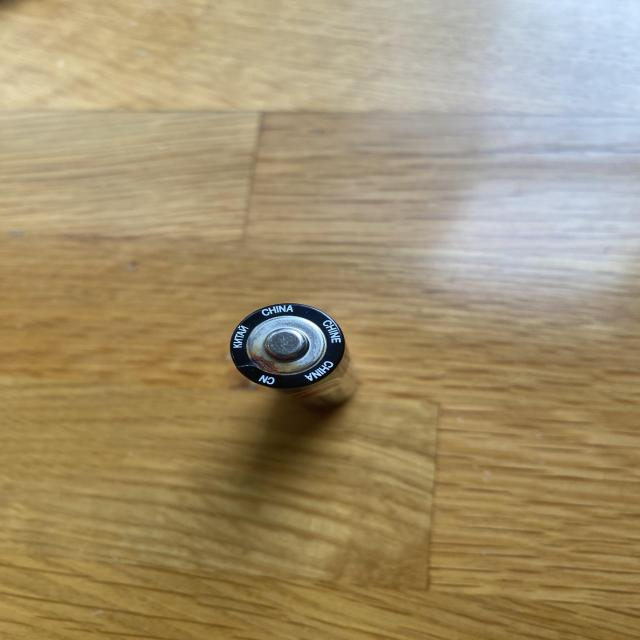AA: (228, 302, 358, 406)
